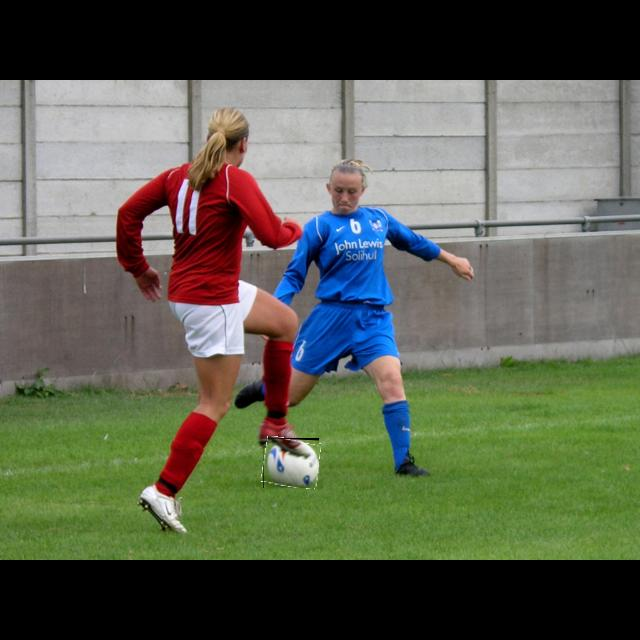Football: (263, 438, 319, 488)
